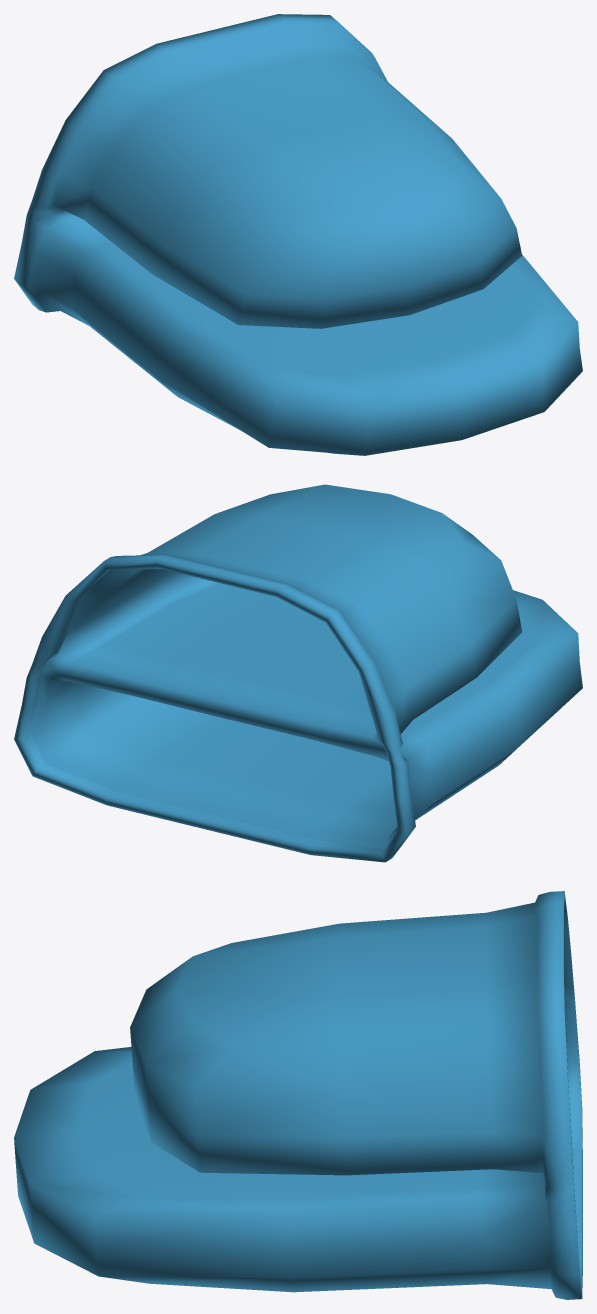
File: Thermo_mitten.fbx
3 renders of one model, top to bottom at view 1: azimuth 30°, elevation 25°; view 2: azimuth 150°, elevation 25°; view 3: azimuth 270°, elevation 25°, orthographic. The views are drawn at different scales.
Parts seen in each view (by area): view 1: SM_Thermo_Mitten; view 2: SM_Thermo_Mitten; view 3: SM_Thermo_Mitten.
Part boxes in pixels (<box>): SM_Thermo_Mitten: <box>14,14,582,455</box>; SM_Thermo_Mitten: <box>14,484,582,862</box>; SM_Thermo_Mitten: <box>14,891,582,1299</box>.
Bounding box in the file's own units: 9.61 × 5.88 × 10.84.
